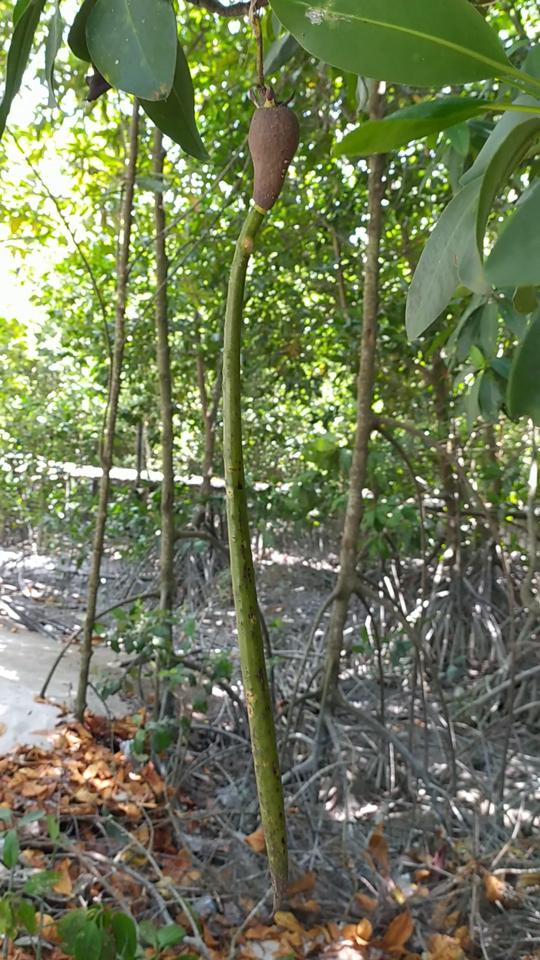setengah matang: (213, 81, 314, 921)
